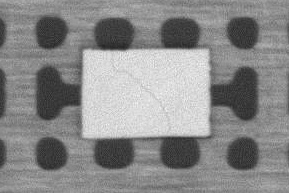DIE_CRACK: (111, 51, 170, 133)
